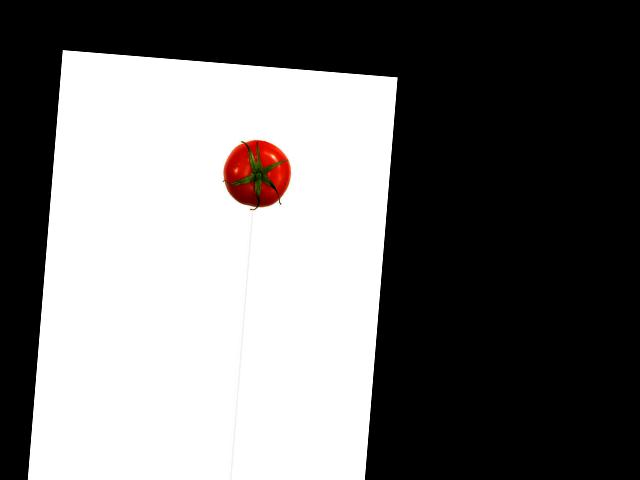tomato: (220, 136, 292, 209)
